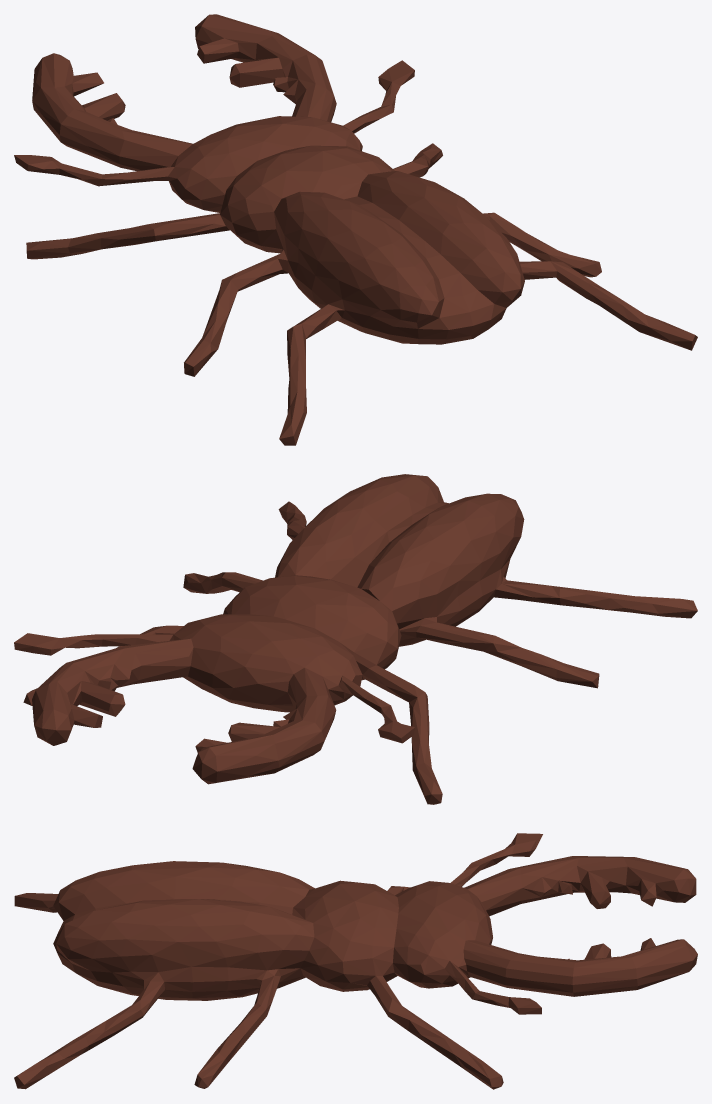
Rendered from NEW_RECOVERY_065_LOD2.fbx.
The picture shows the model from 3 angles, top to bottom: view 1: azimuth 30°, elevation 25°; view 2: azimuth 150°, elevation 25°; view 3: azimuth 270°, elevation 25°; orthographic projection. The views are drawn at different scales.
Parts seen in each view (by area): view 1: StagBeetle; view 2: StagBeetle; view 3: StagBeetle.
Boxes of the visible parts, left/top/right/bottom form: StagBeetle: left=14, top=14, right=697, bottom=445; StagBeetle: left=14, top=474, right=697, bottom=804; StagBeetle: left=14, top=833, right=697, bottom=1089.
Size of the model in its own units: 326 by 499 by 92.37.
